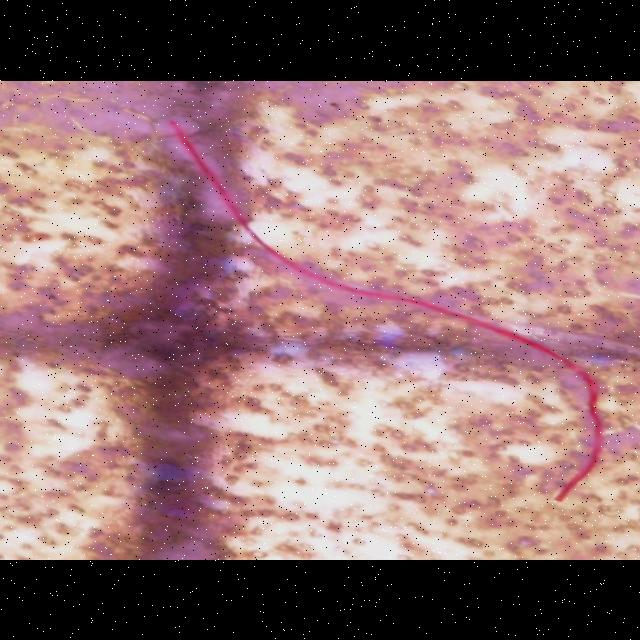Fibre: (151, 113, 609, 504)
